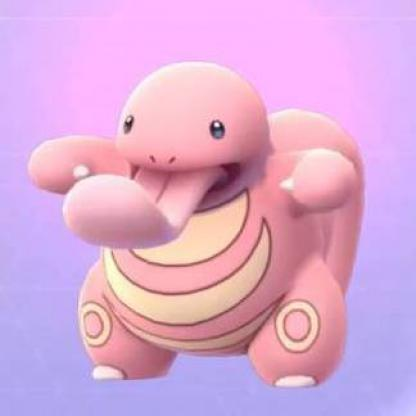Lickitung: (40, 52, 368, 401)
